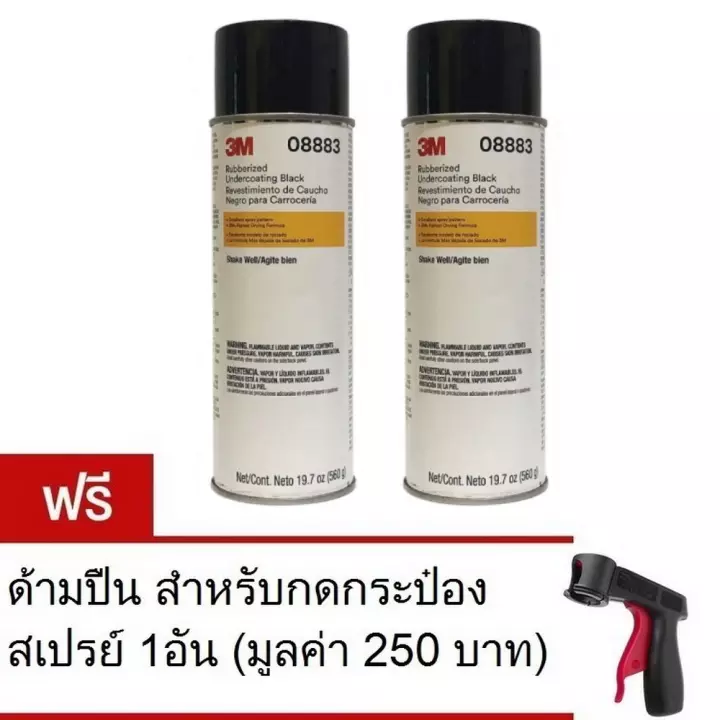Aerosol_cans: (207, 16, 360, 506), (401, 19, 554, 506)
